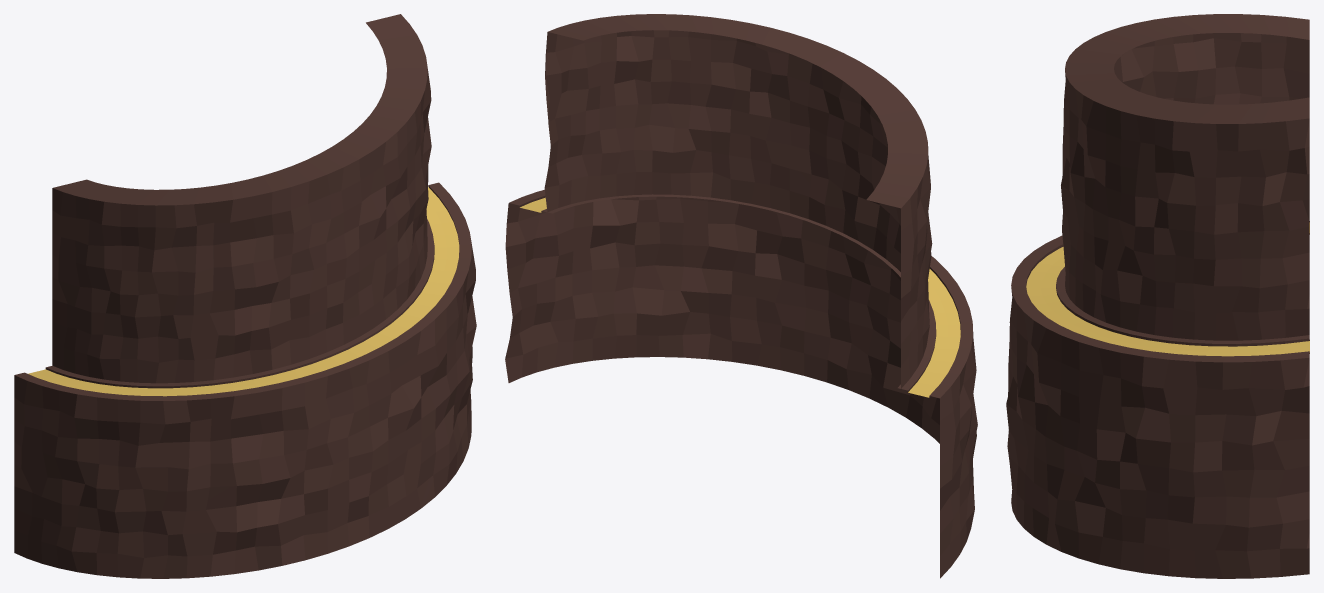
Rendered from mountain.glb.
3 views of the same model, side by side, from view 1: azimuth 30°, elevation 25°; view 2: azimuth 150°, elevation 25°; view 3: azimuth 270°, elevation 25° (orthographic). The views are drawn at different scales.
Parts seen in each view (by area): view 1: Circle.003; view 2: Circle.003; view 3: Circle.003.
Part boxes in pixels (box(x1,y1,x2,y2)): Circle.003: box(14, 14, 476, 578); Circle.003: box(505, 14, 977, 578); Circle.003: box(1006, 14, 1309, 578).
Size of the model in its own units: 16.89 by 16.64 by 8.46.
